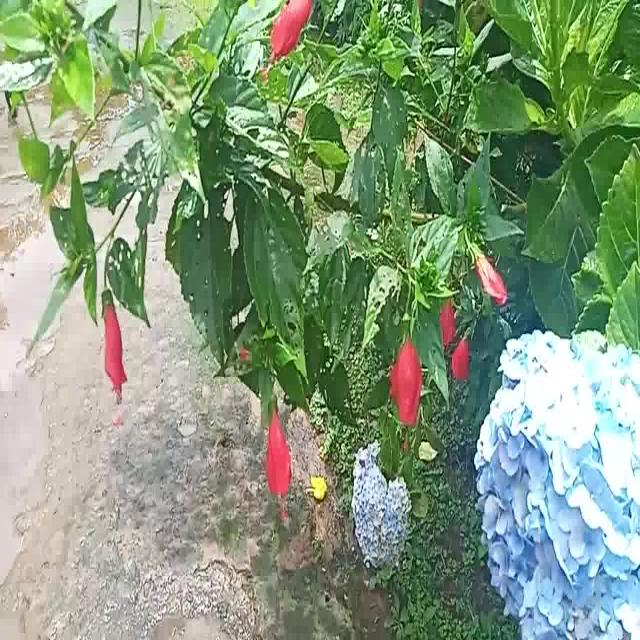Flower: (475, 328, 640, 640), (352, 438, 423, 570), (96, 285, 137, 407), (260, 392, 293, 507), (263, 1, 321, 61), (393, 338, 427, 433), (469, 238, 509, 311)
